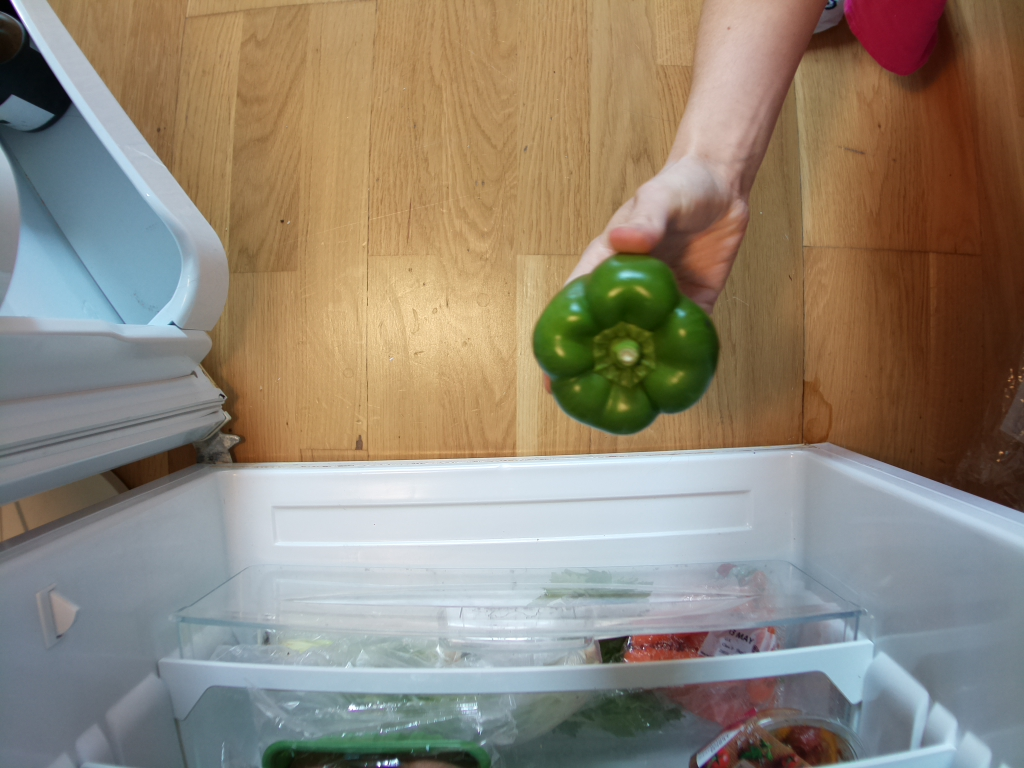pepper: (533, 256, 722, 436)
